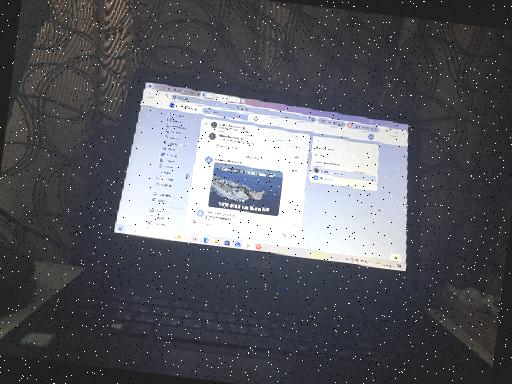vk: (126, 92, 416, 264)
